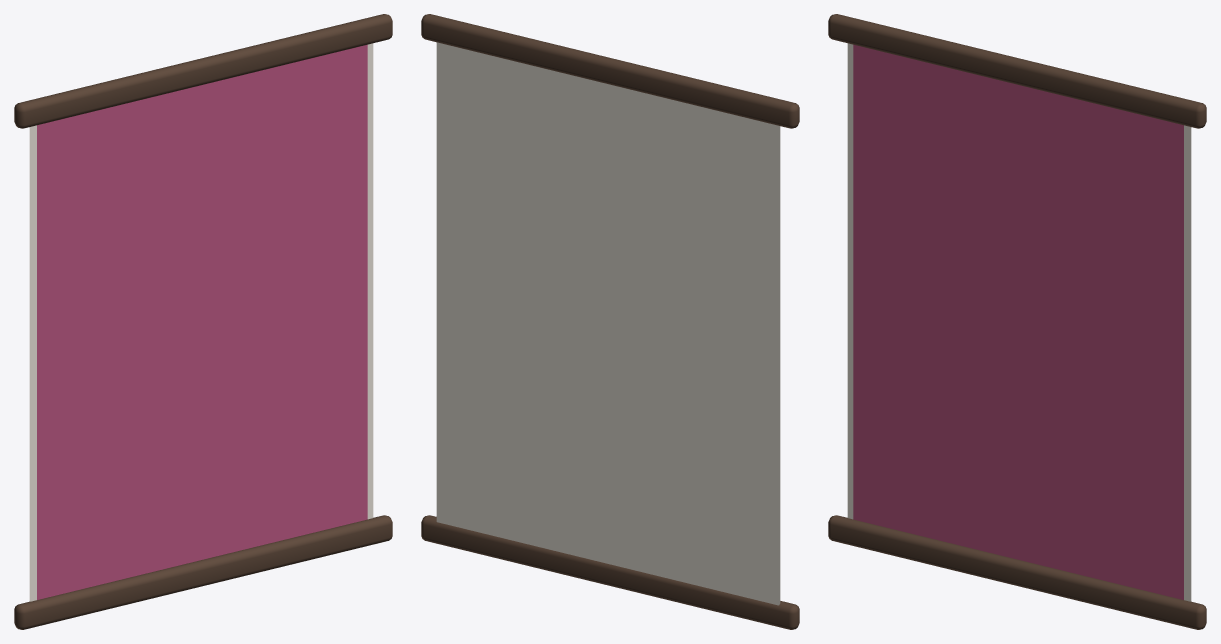
The model's file is poster.glb.
The picture shows the model from 3 angles, left to right: view 1: azimuth 30°, elevation 25°; view 2: azimuth 150°, elevation 25°; view 3: azimuth 330°, elevation 25°; orthographic projection.
Visible parts, largest first — view 1: poster; view 2: poster; view 3: poster.
Part boxes in pixels (box(x1,y1,x2,y2)): poster: box(14, 14, 392, 629); poster: box(421, 14, 799, 629); poster: box(828, 14, 1206, 629).
Bounding box in the file's own units: 0.6587 × 0.8807 × 0.0247.
